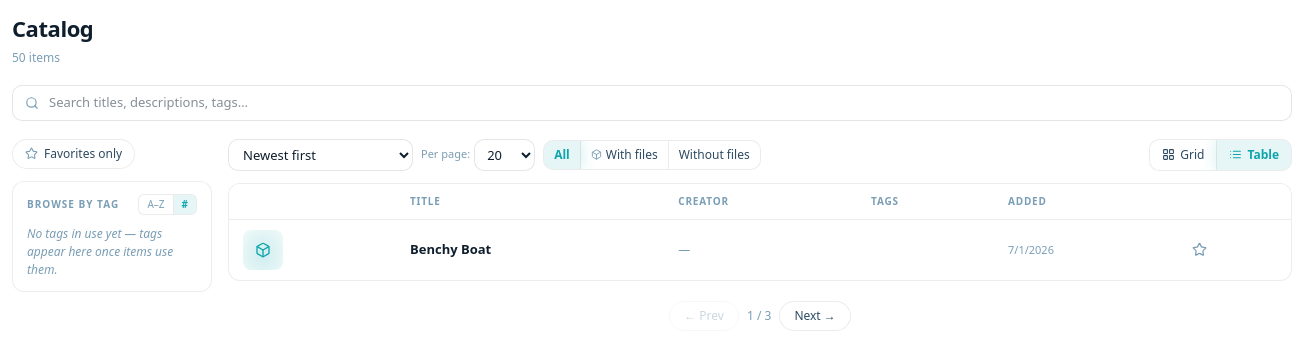
Test: CatalogPage › stays on the selected page when paginating (does not bounce back to page 1)
Expected: the text "1 / 3" is shown, [747,306,771,324]
Click the button "Next →": (815, 316) [779,300,851,330]
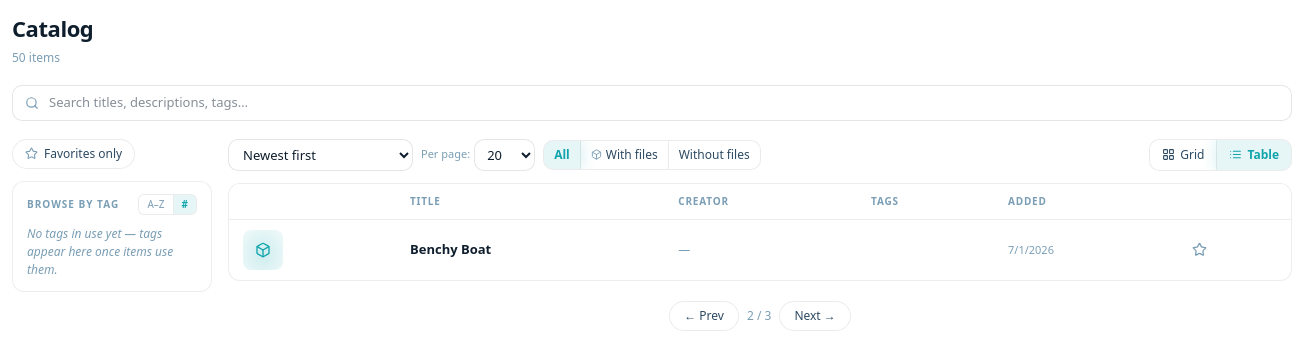
Expected: the text "2 / 3" is shown, [747,306,771,324]
